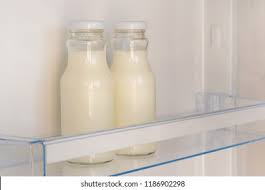milk: (58, 22, 112, 167), (109, 16, 163, 156)
